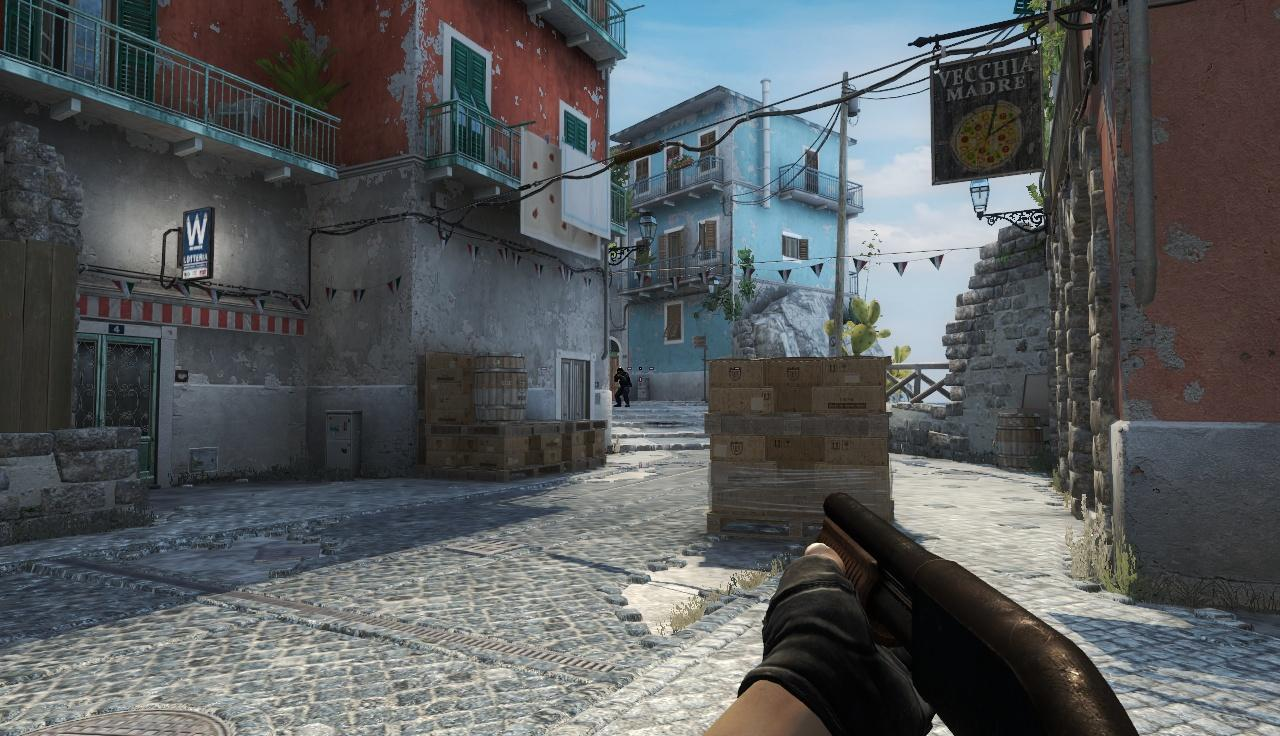ct: (613, 368, 631, 407)
shotgun: (789, 493, 1135, 736)
